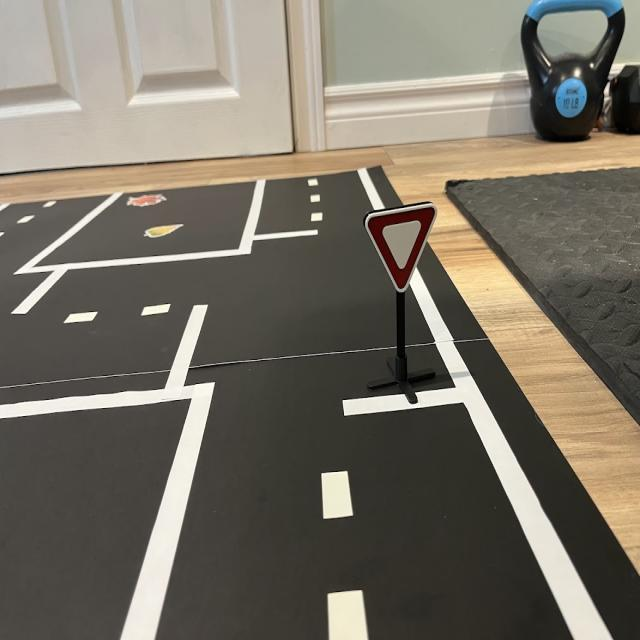sign_yield: (366, 205, 438, 294)
